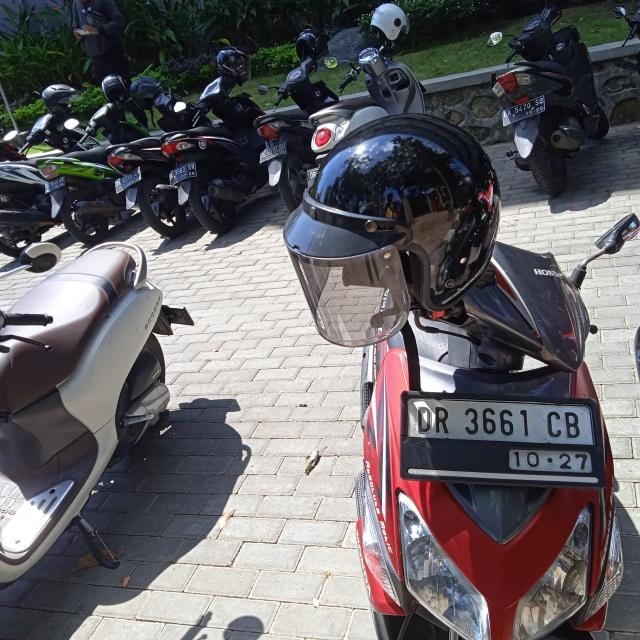plate: (398, 392, 606, 487), (501, 94, 546, 127)
